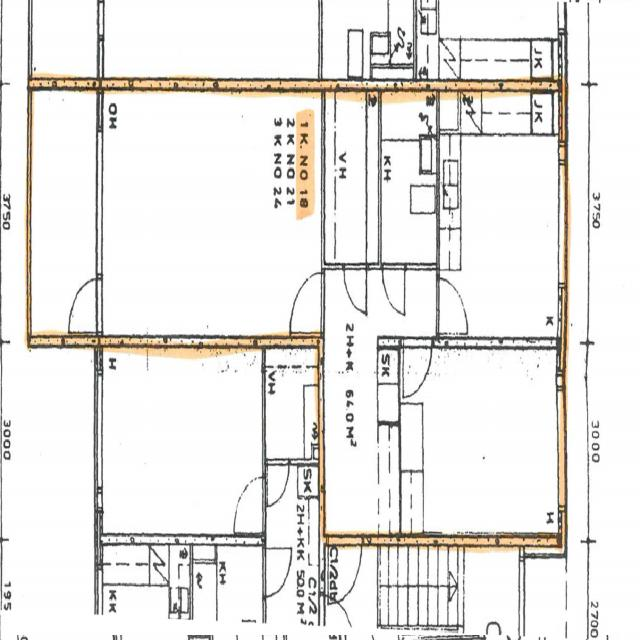door: (328, 536, 362, 610), (289, 273, 324, 332), (403, 336, 432, 402), (68, 279, 102, 332), (436, 279, 468, 334), (344, 261, 366, 312), (382, 261, 404, 312)
